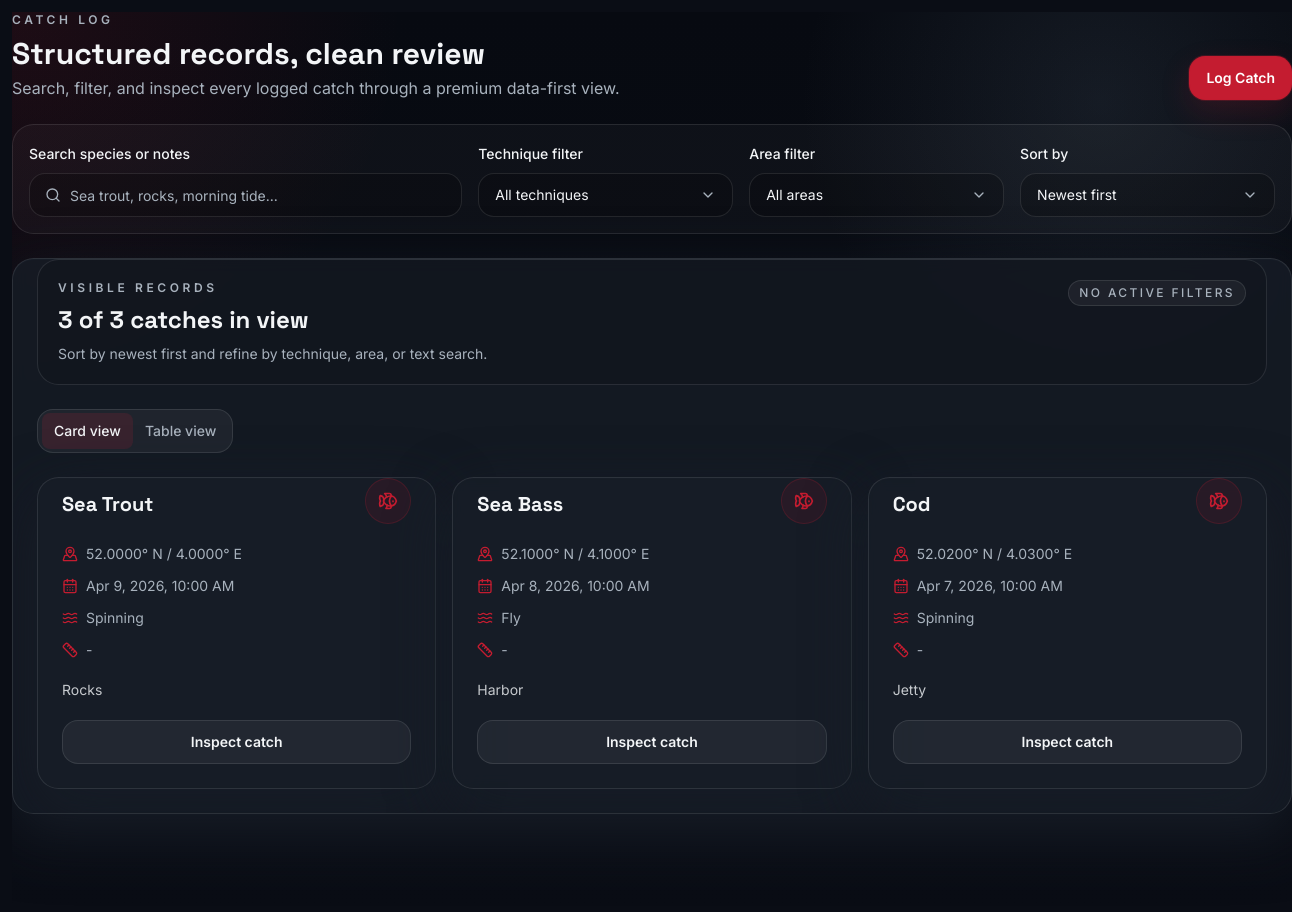
Test: CatchLogPage › filters catches by area and reports the visible count
Click the dropdown named "Area filter" at (877, 195), box [749,173,1004,217]
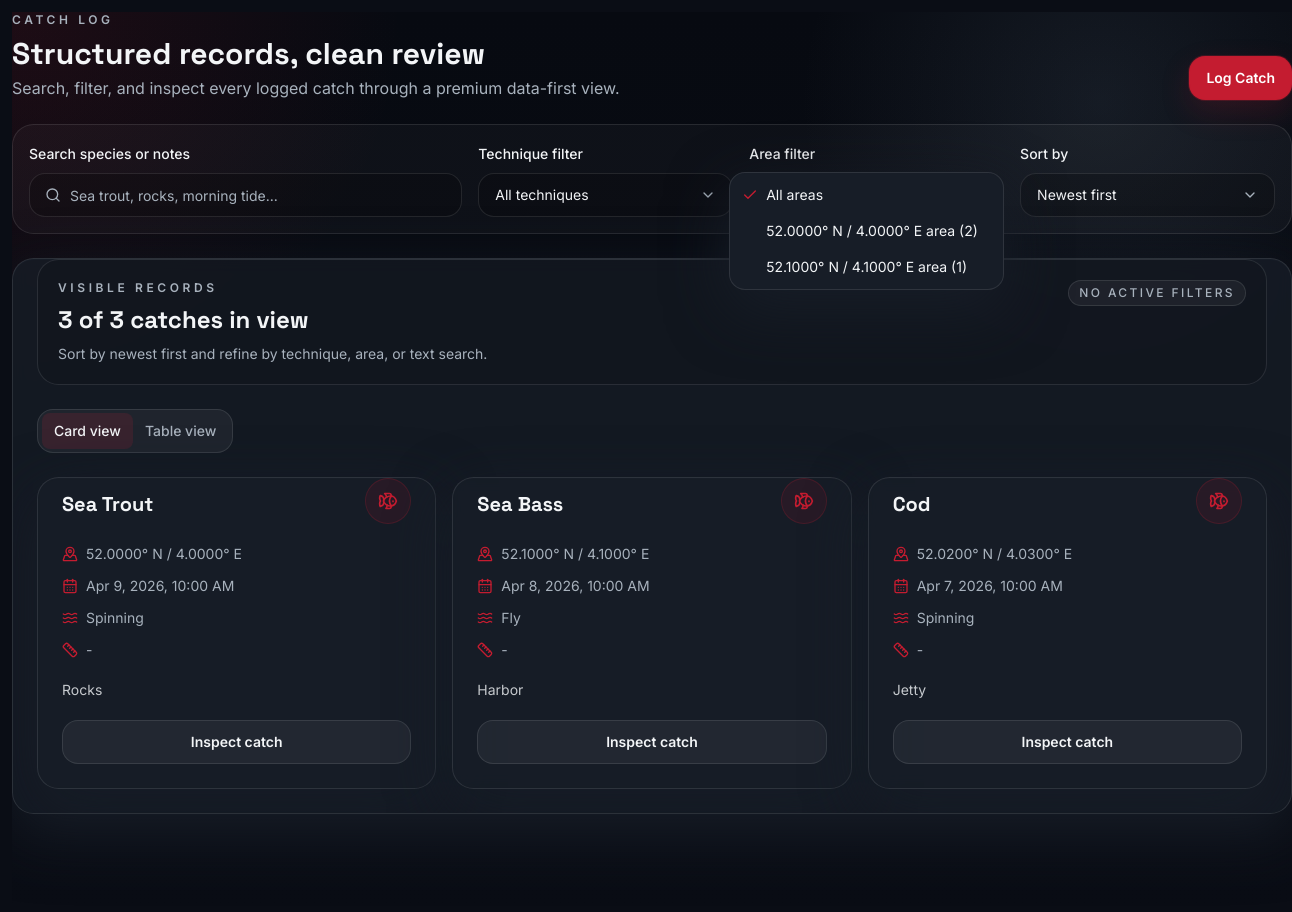
Click the option "52.0000° N / 4.0000° E area (2)" at (872, 230), box [766,222,978,239]
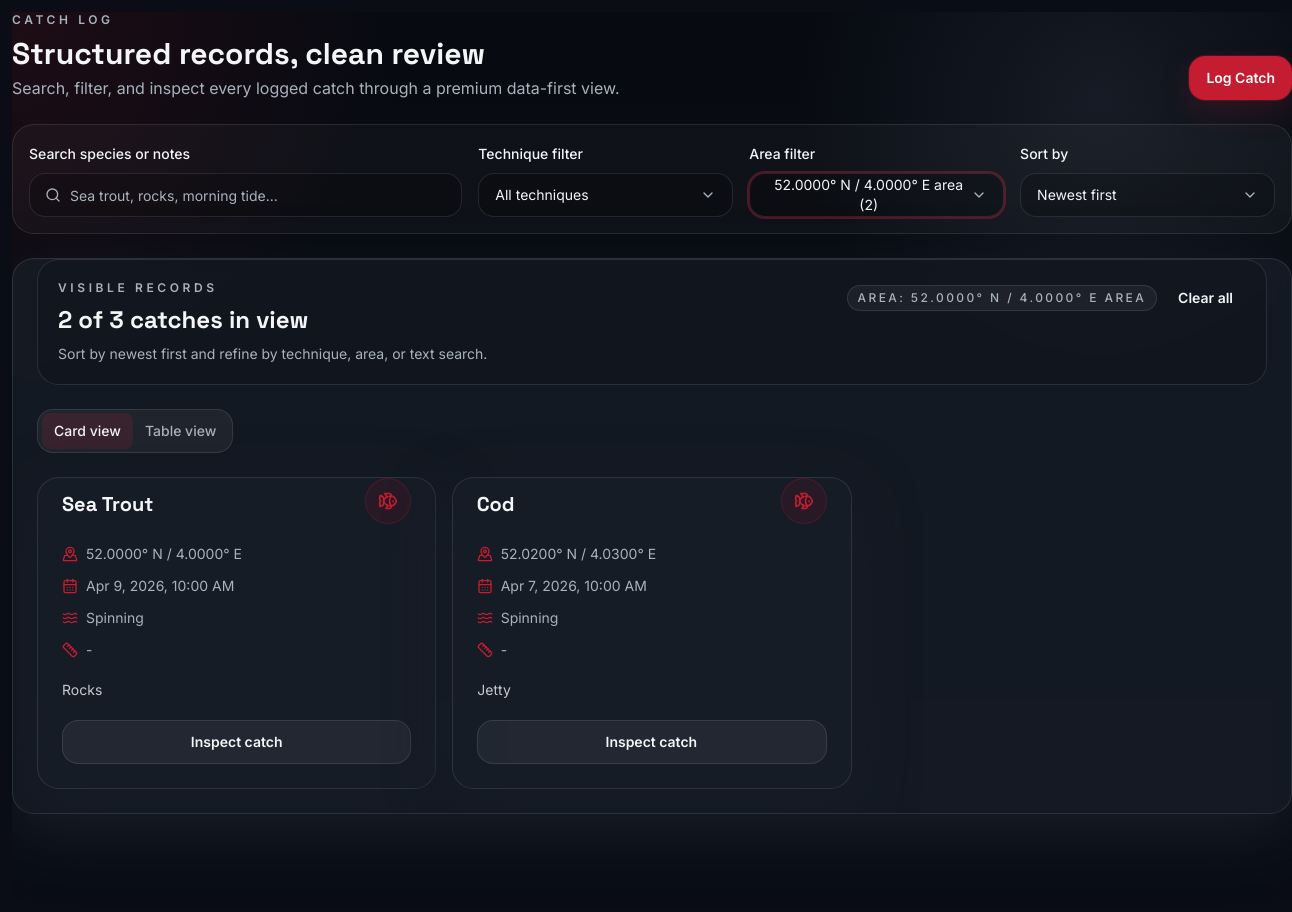
Expected: the heading "Sea Trout" is shown, [62,490,153,518]
Expected: the heading "2 of 3 catches in view" is shown, [58,304,308,335]
Expected: the heading "Sea Bass" is gone
